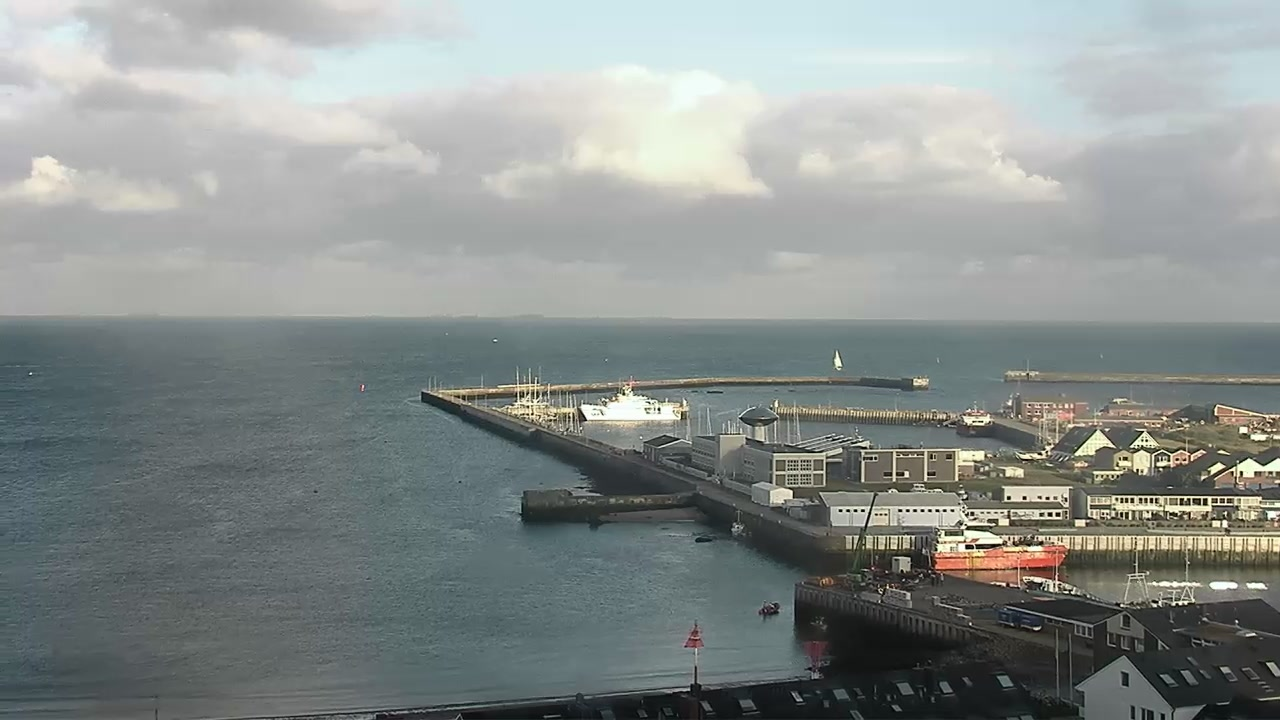human: (930, 570, 936, 586), (934, 570, 940, 585), (939, 570, 945, 585), (1227, 527, 1232, 535), (1224, 526, 1228, 535)
land: (840, 491, 881, 591)
sea: (1020, 546, 1198, 608), (921, 512, 1069, 572), (576, 376, 683, 422), (502, 365, 554, 407), (953, 398, 996, 437), (513, 358, 537, 417), (559, 389, 582, 436), (548, 386, 565, 431), (730, 509, 748, 538), (758, 599, 779, 616), (809, 615, 828, 631), (833, 348, 844, 371)
